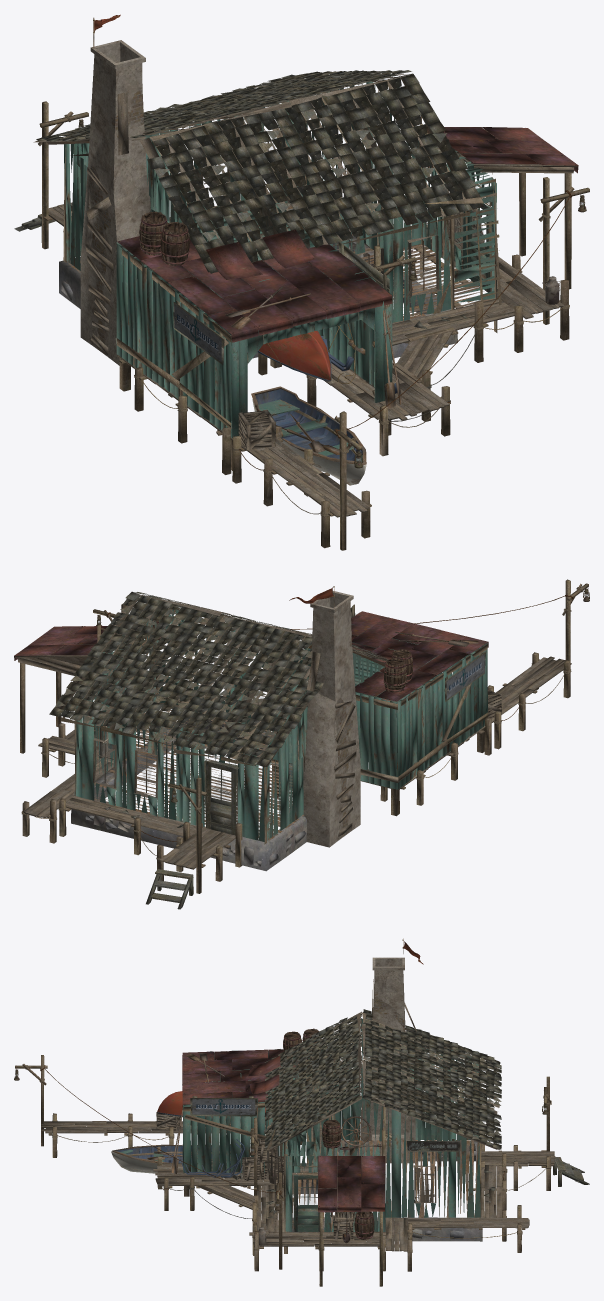
Rendered from cargo_boathouse.glb.
3 renders of one model, top to bottom at view 1: azimuth 30°, elevation 25°; view 2: azimuth 150°, elevation 25°; view 3: azimuth 270°, elevation 25°, orthographic. The views are drawn at different scales.
Parts seen in each view (by area): view 1: KB3D_OUT_BldgSMBoatHouse_A_BuildingE, KB3D_OUT_BldgSMBoatHouse_A_BuildingC, KB3D_OUT_BldgSMBoatHouse_A_BuildingD, KB3D_OUT_BldgSMBoatHouse_A_BuildingA, KB3D_OUT_BldgSMBoatHouse_A_BuildingB, KB3D_OUT_BldgSMBoatHouse_A_Boat, KB3D_OUT_BldgSMBoatHouse_A_DecalB, KB3D_OUT_BldgSMBoatHouse_A_DoorB; view 2: KB3D_OUT_BldgSMBoatHouse_A_BuildingE, KB3D_OUT_BldgSMBoatHouse_A_BuildingC, KB3D_OUT_BldgSMBoatHouse_A_BuildingD, KB3D_OUT_BldgSMBoatHouse_A_BuildingA, KB3D_OUT_BldgSMBoatHouse_A_BuildingB, KB3D_OUT_BldgSMBoatHouse_A_DoorA, KB3D_OUT_BldgSMBoatHouse_A_DecalB, KB3D_OUT_BldgSMBoatHouse_A_BuildingE_001; view 3: KB3D_OUT_BldgSMBoatHouse_A_BuildingE, KB3D_OUT_BldgSMBoatHouse_A_BuildingD, KB3D_OUT_BldgSMBoatHouse_A_BuildingC, KB3D_OUT_BldgSMBoatHouse_A_BuildingB, KB3D_OUT_BldgSMBoatHouse_A_BuildingA, KB3D_OUT_BldgSMBoatHouse_A_Boat, KB3D_OUT_BldgSMBoatHouse_A_PropSetA, KB3D_OUT_BldgSMBoatHouse_A_DoorB, KB3D_OUT_BldgSMBoatHouse_A_DecalC, KB3D_OUT_BldgSMBoatHouse_A_PropSetB.
Part boxes in pixels (left/top/right/bottom): KB3D_OUT_BldgSMBoatHouse_A_BuildingE: left=33, top=70, right=501, bottom=375; KB3D_OUT_BldgSMBoatHouse_A_BuildingC: left=115, top=202, right=402, bottom=470; KB3D_OUT_BldgSMBoatHouse_A_BuildingD: left=14, top=101, right=589, bottom=550; KB3D_OUT_BldgSMBoatHouse_A_BuildingA: left=80, top=17, right=151, bottom=365; KB3D_OUT_BldgSMBoatHouse_A_BuildingB: left=444, top=127, right=578, bottom=289; KB3D_OUT_BldgSMBoatHouse_A_Boat: left=251, top=386, right=366, bottom=485; KB3D_OUT_BldgSMBoatHouse_A_DecalB: left=174, top=304, right=221, bottom=361; KB3D_OUT_BldgSMBoatHouse_A_DoorB: left=467, top=203, right=490, bottom=292; KB3D_OUT_BldgSMBoatHouse_A_BuildingE: left=49, top=591, right=388, bottom=871; KB3D_OUT_BldgSMBoatHouse_A_BuildingC: left=272, top=604, right=501, bottom=816; KB3D_OUT_BldgSMBoatHouse_A_BuildingD: left=21, top=579, right=589, bottom=909; KB3D_OUT_BldgSMBoatHouse_A_BuildingA: left=303, top=586, right=360, bottom=847; KB3D_OUT_BldgSMBoatHouse_A_BuildingB: left=14, top=626, right=116, bottom=753; KB3D_OUT_BldgSMBoatHouse_A_DoorA: left=206, top=760, right=236, bottom=835; KB3D_OUT_BldgSMBoatHouse_A_DecalB: left=446, top=654, right=484, bottom=699; KB3D_OUT_BldgSMBoatHouse_A_BuildingE_001: left=97, top=691, right=263, bottom=787; KB3D_OUT_BldgSMBoatHouse_A_BuildingE: left=264, top=1009, right=501, bottom=1253; KB3D_OUT_BldgSMBoatHouse_A_BuildingD: left=14, top=1055, right=589, bottom=1271; KB3D_OUT_BldgSMBoatHouse_A_BuildingC: left=156, top=1028, right=334, bottom=1196; KB3D_OUT_BldgSMBoatHouse_A_BuildingB: left=317, top=1155, right=385, bottom=1286; KB3D_OUT_BldgSMBoatHouse_A_BuildingA: left=360, top=938, right=416, bottom=1163; KB3D_OUT_BldgSMBoatHouse_A_Boat: left=111, top=1144, right=240, bottom=1173; KB3D_OUT_BldgSMBoatHouse_A_PropSetA: left=333, top=1211, right=374, bottom=1243; KB3D_OUT_BldgSMBoatHouse_A_DoorB: left=293, top=1175, right=319, bottom=1231; KB3D_OUT_BldgSMBoatHouse_A_DecalC: left=192, top=1099, right=255, bottom=1114; KB3D_OUT_BldgSMBoatHouse_A_PropSetB: left=322, top=1116, right=381, bottom=1150.
Bounding box in the file's own units: 10.2 × 7.25 × 16.9.
Materials: 27 (27 with a texture image).
